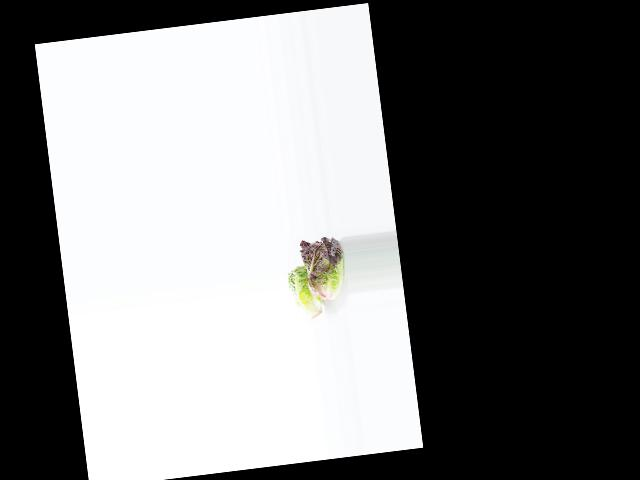lettuce: (285, 262, 325, 322)
